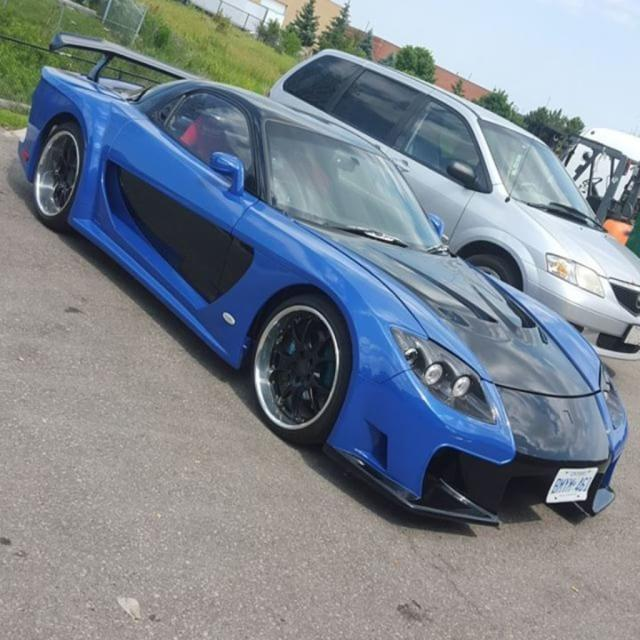car: (15, 30, 625, 527)
